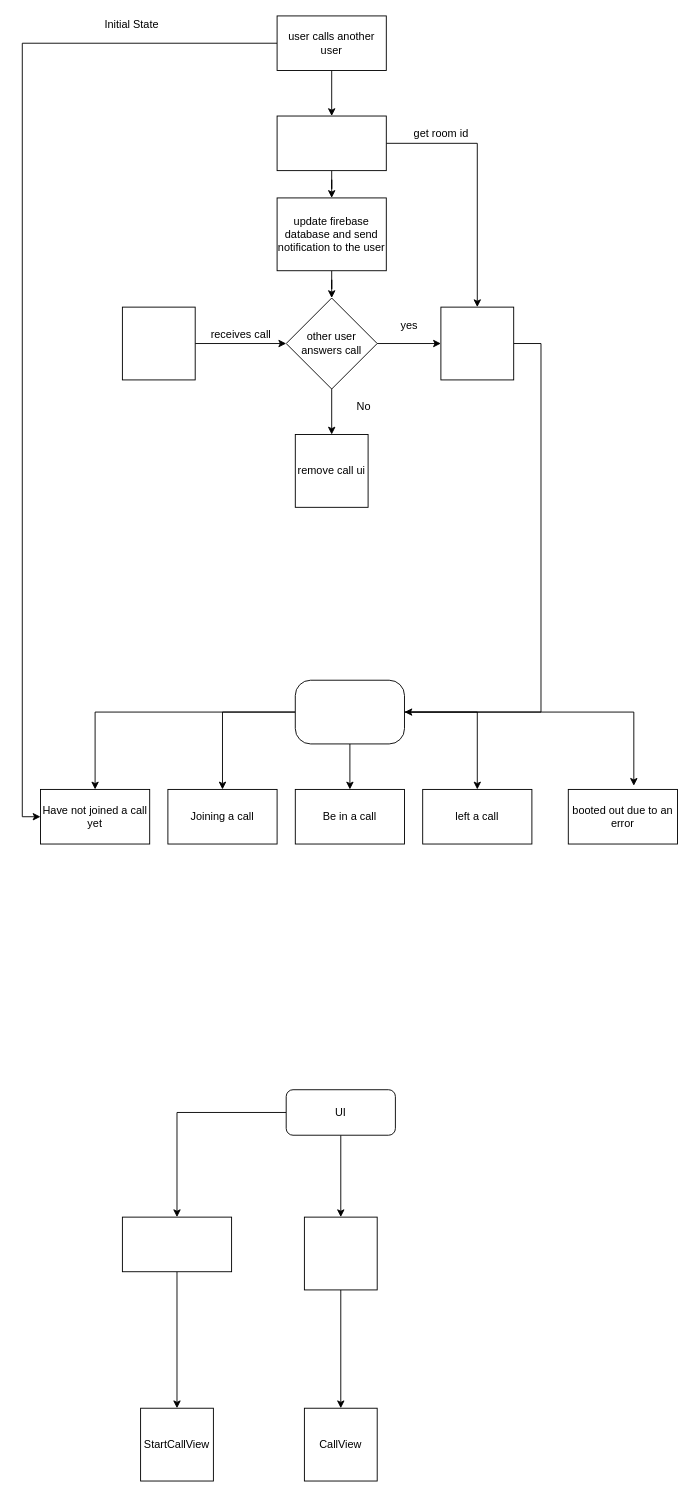
The diagram is 693 pixels wide and 1497 high, and some of its shapes have lost their labels. The centre of each missing label's shape, as x and y in pixels:
"Both users joined the call" belongs at point 340,1253.
"Create a room" belongs at point 331,143.
"create call object" belongs at point 477,343.
"if both users are joining the call or only one has joined" belongs at point 176,1244.
"other user listening to call on database" belongs at point 158,343.
"User Meeting state" belongs at point 349,711.
